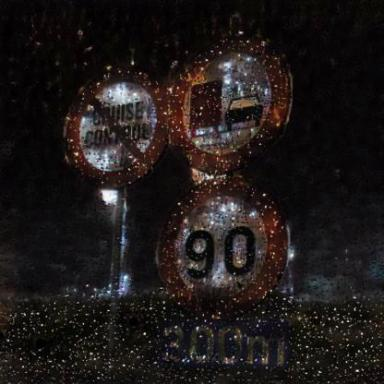Speed_limit_90: (163, 186, 287, 313)
